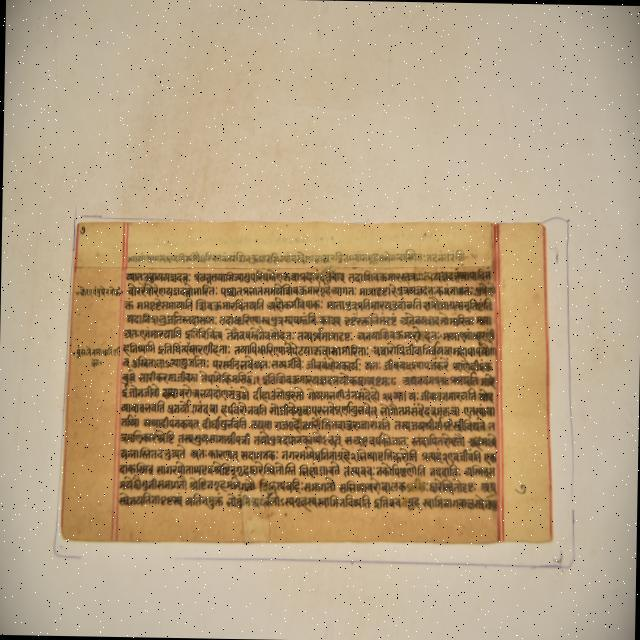text_paragraph: (60, 222, 549, 545)
